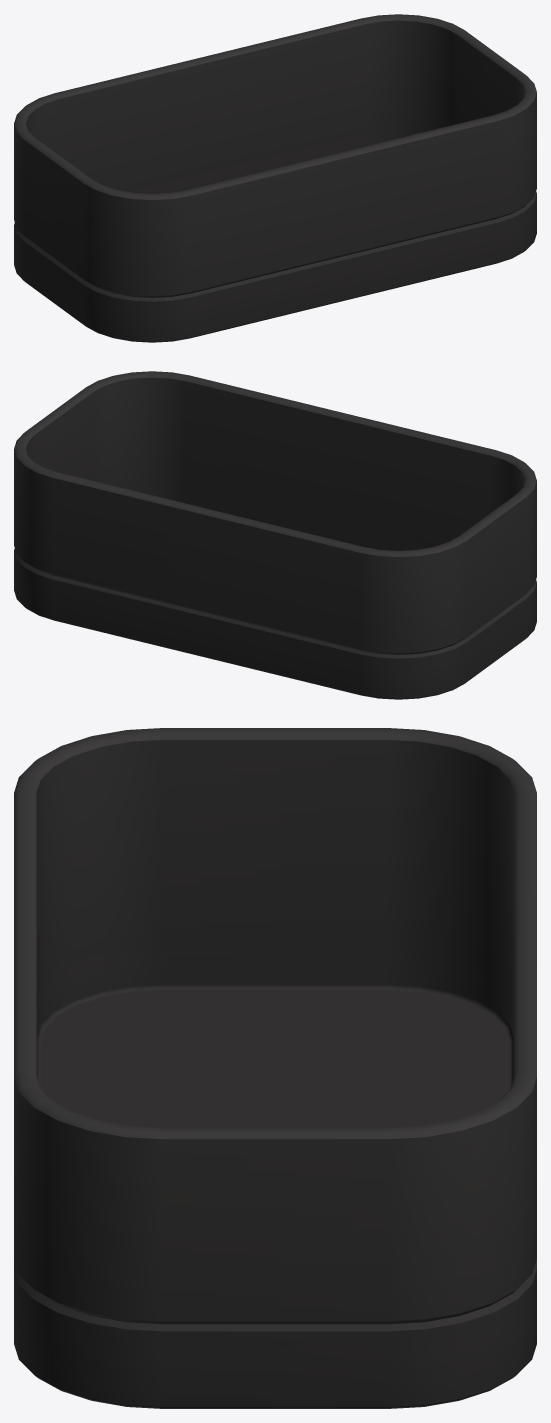
Rendered from Checker_Box_01.fbx.
3 views of the same model, one above another, from view 1: azimuth 30°, elevation 25°; view 2: azimuth 150°, elevation 25°; view 3: azimuth 270°, elevation 25° (orthographic). The views are drawn at different scales.
Parts seen in each view (by area): view 1: Checker_Box_01; view 2: Checker_Box_01; view 3: Checker_Box_01.
Part boxes in pixels (box(x1,y1,x2,y2)): Checker_Box_01: box(14, 14, 536, 342); Checker_Box_01: box(14, 371, 536, 699); Checker_Box_01: box(14, 728, 536, 1408).
Size of the model in its own units: 16.89 by 5.32 by 9.13.
